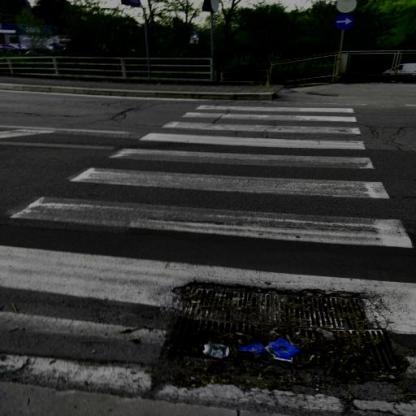crosswalk: (44, 146, 405, 202), (180, 104, 362, 125)
